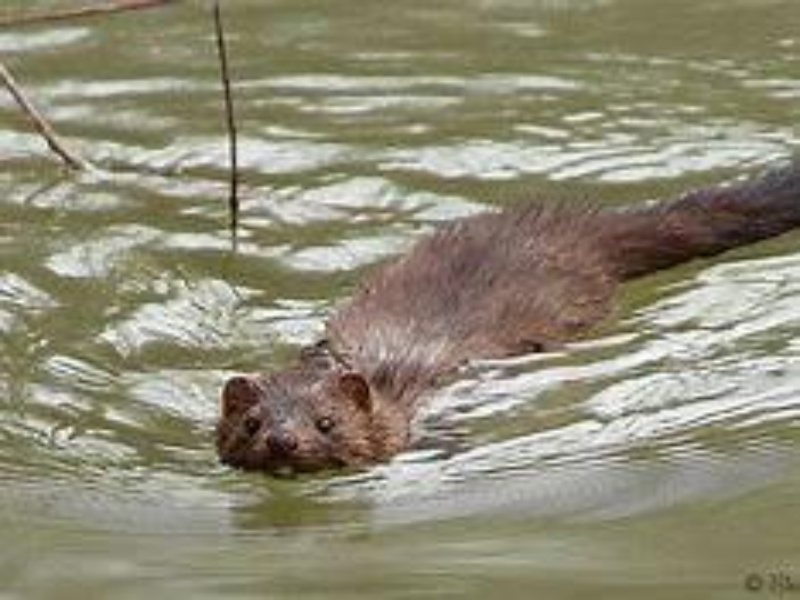minkish: (214, 153, 800, 479)
